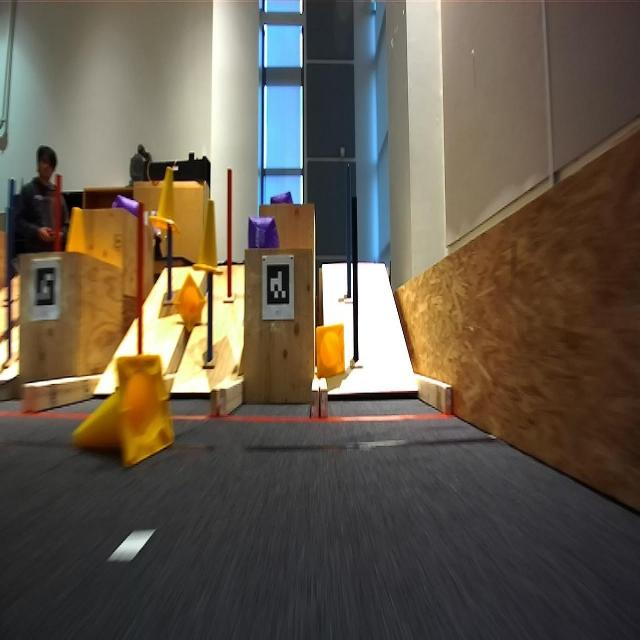frc_cone: (71, 353, 175, 469), (194, 201, 222, 275), (150, 167, 180, 232), (174, 274, 206, 333), (315, 324, 347, 378), (64, 208, 89, 256)
frc_cube: (246, 216, 279, 249), (110, 191, 140, 213), (270, 192, 296, 204)
